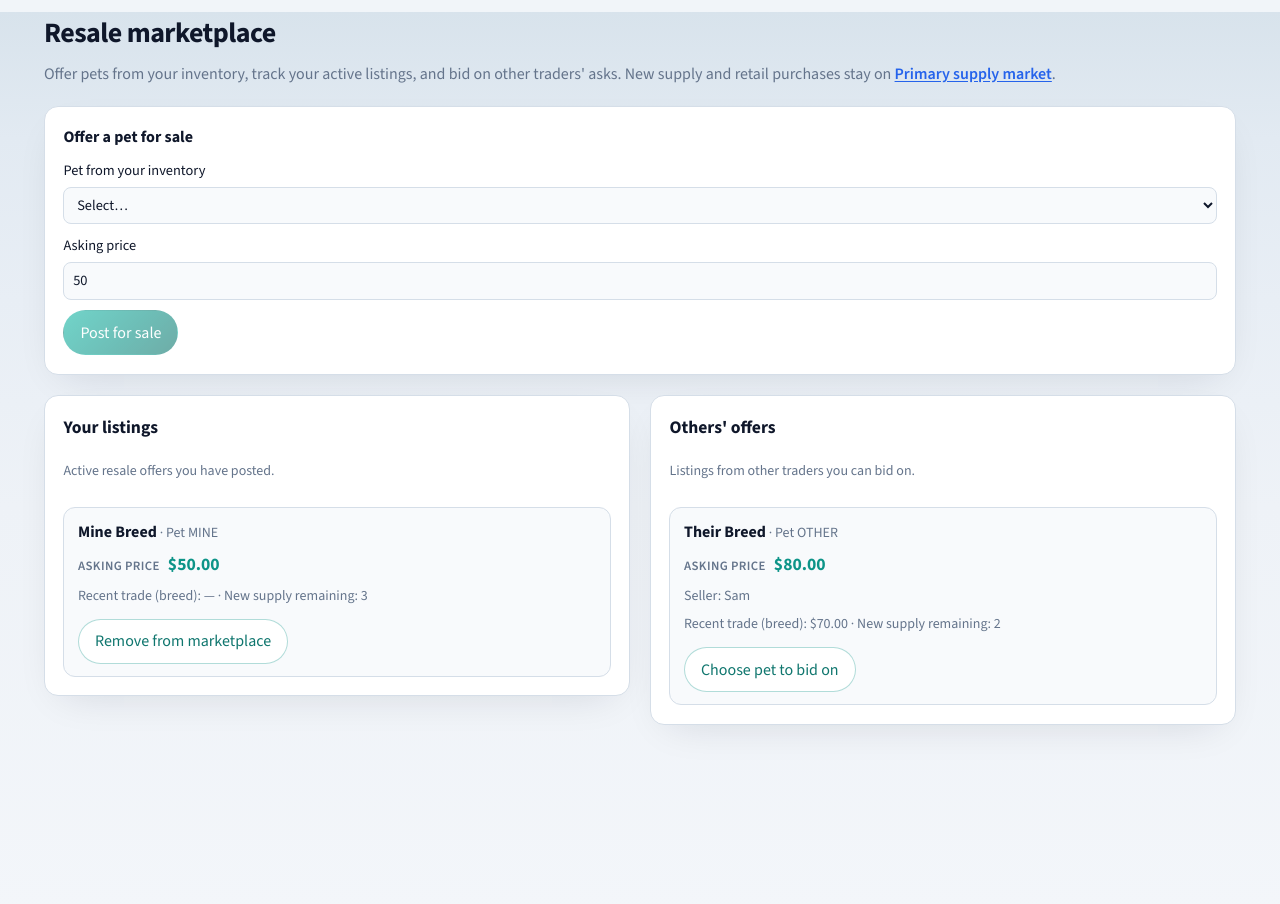
Test: ResaleMarketplacePage › renders the bid details directly under the selected listing
This screenshot has width=1280, height=904.
Click the button "Choose pet to bid on". click: (770, 670)
box: [684,647,856,692]
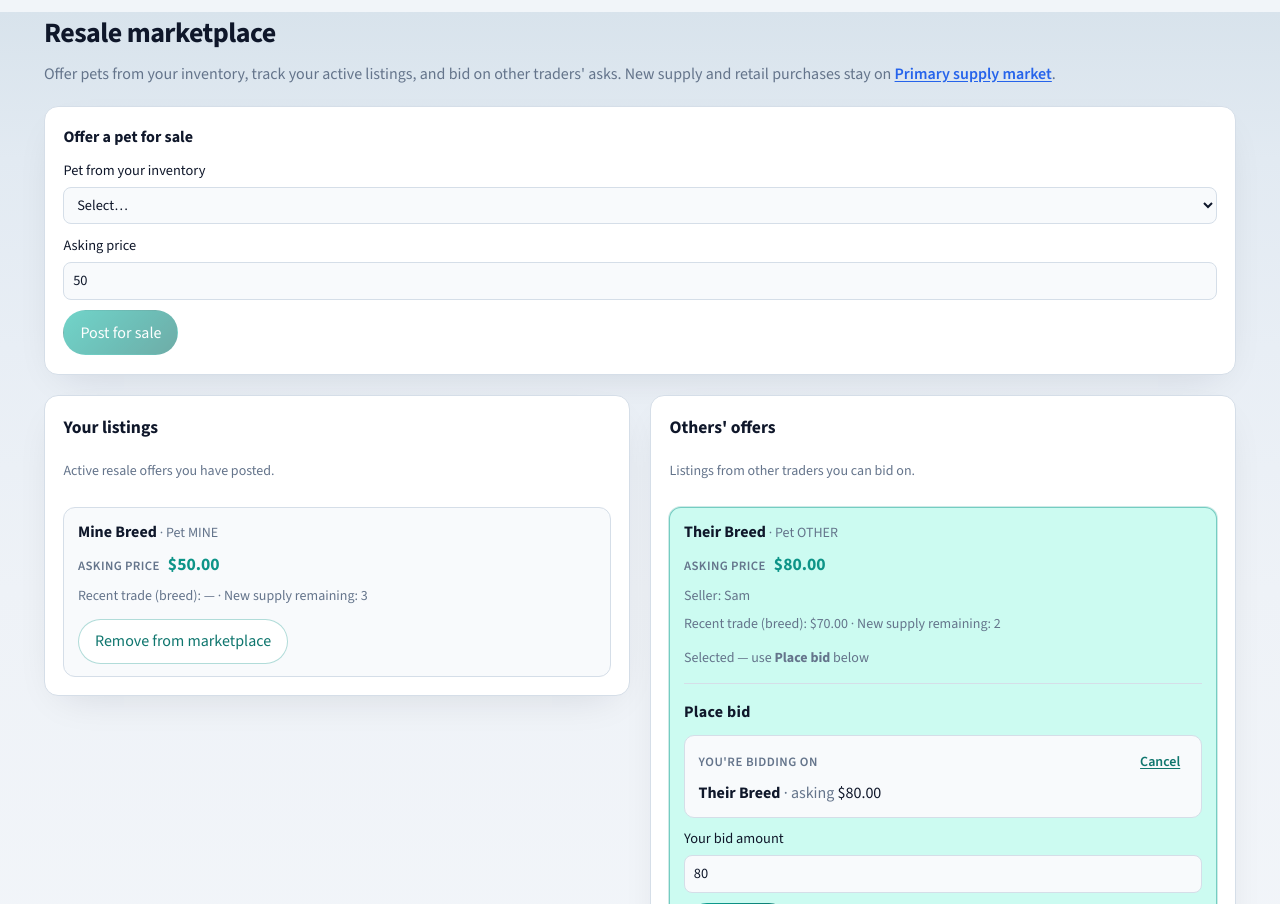
Expected: the heading "Place bid" is shown, [684,701,751,722]
Expected: the text "You're bidding on" is shown, [699,752,818,771]
